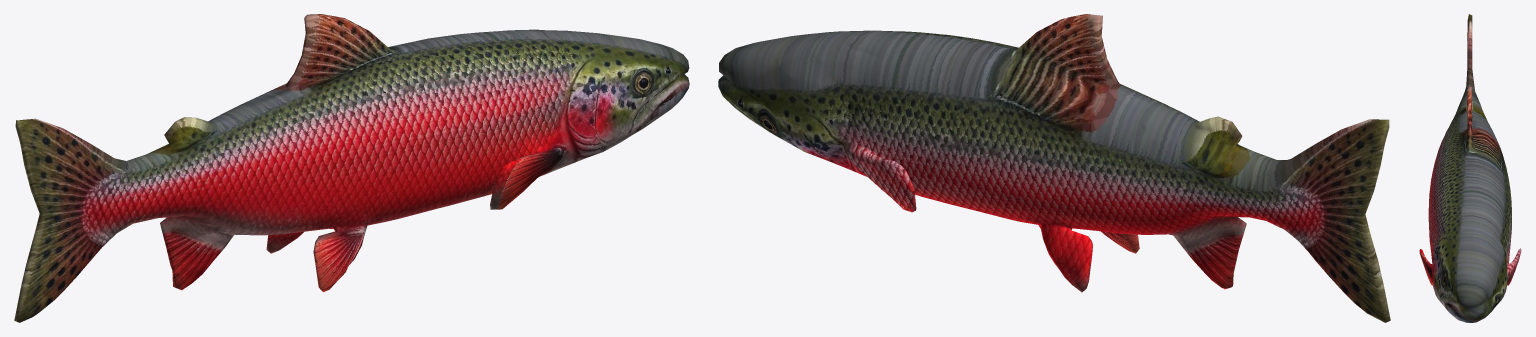
Rendered from salmon.glb.
3 renders of one model, left to right at view 1: azimuth 30°, elevation 25°; view 2: azimuth 150°, elevation 25°; view 3: azimuth 270°, elevation 25°, orthographic. The views are drawn at different scales.
Visible parts, largest first — view 1: geometry_0; view 2: geometry_0; view 3: geometry_0.
Part boxes in pixels (box(x1,y1,x2,y2)): geometry_0: box(14, 14, 689, 322); geometry_0: box(718, 14, 1390, 322); geometry_0: box(1419, 14, 1521, 322).
Bounding box in the file's own units: 0.8988 × 0.3269 × 0.1759.
1 material, 1 textured.
